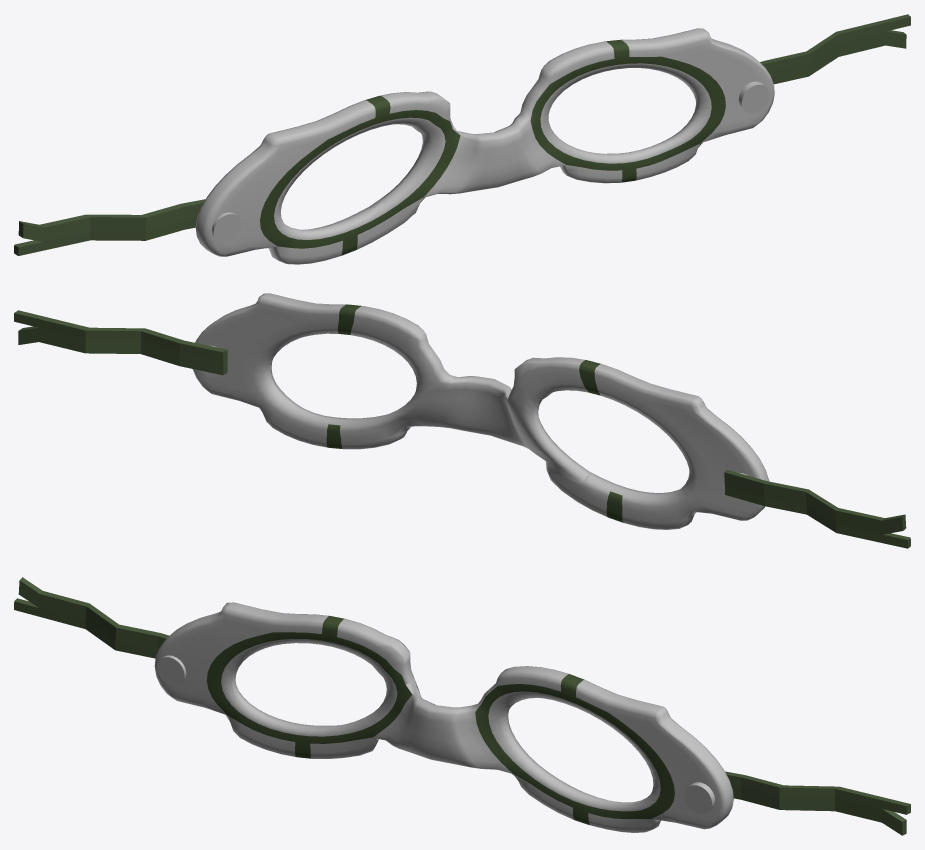
Rendered from Trash_Mask.fbx.
3 renders of one model, top to bottom at view 1: azimuth 30°, elevation 25°; view 2: azimuth 150°, elevation 25°; view 3: azimuth 330°, elevation 25°, orthographic.
Visible parts, largest first — view 1: Trash_mask; view 2: Trash_mask; view 3: Trash_mask.
Boxes of the visible parts, box(x1,y1,x2,y2) form: Trash_mask: box(14, 14, 910, 264); Trash_mask: box(14, 293, 910, 548); Trash_mask: box(14, 577, 910, 835).
Size of the model in its own units: 64.53 by 10.22 by 5.03.
